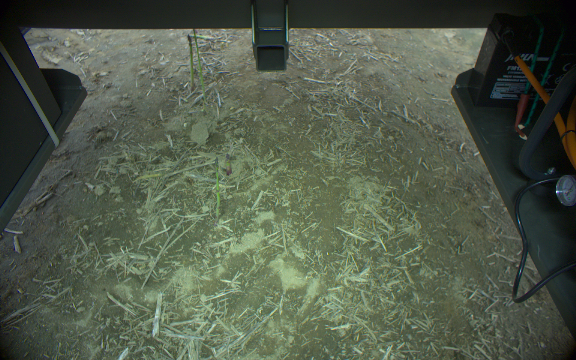aspa: (191, 30, 209, 103), (186, 33, 195, 92), (214, 156, 222, 215), (224, 151, 231, 176)
